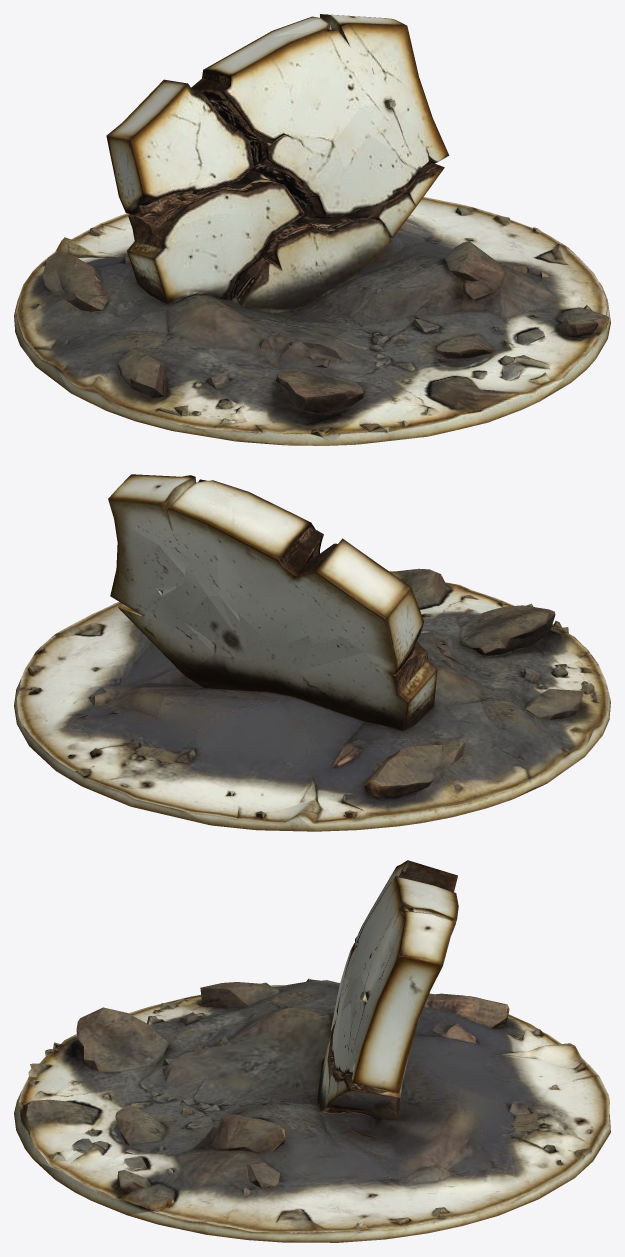
File: wreck-fragment.glb
The picture shows the model from 3 angles, top to bottom: view 1: azimuth 30°, elevation 25°; view 2: azimuth 150°, elevation 25°; view 3: azimuth 270°, elevation 25°; orthographic projection.
Size of the model in its own units: 1.87 by 0.8529 by 1.89.
1 material, 1 textured.
